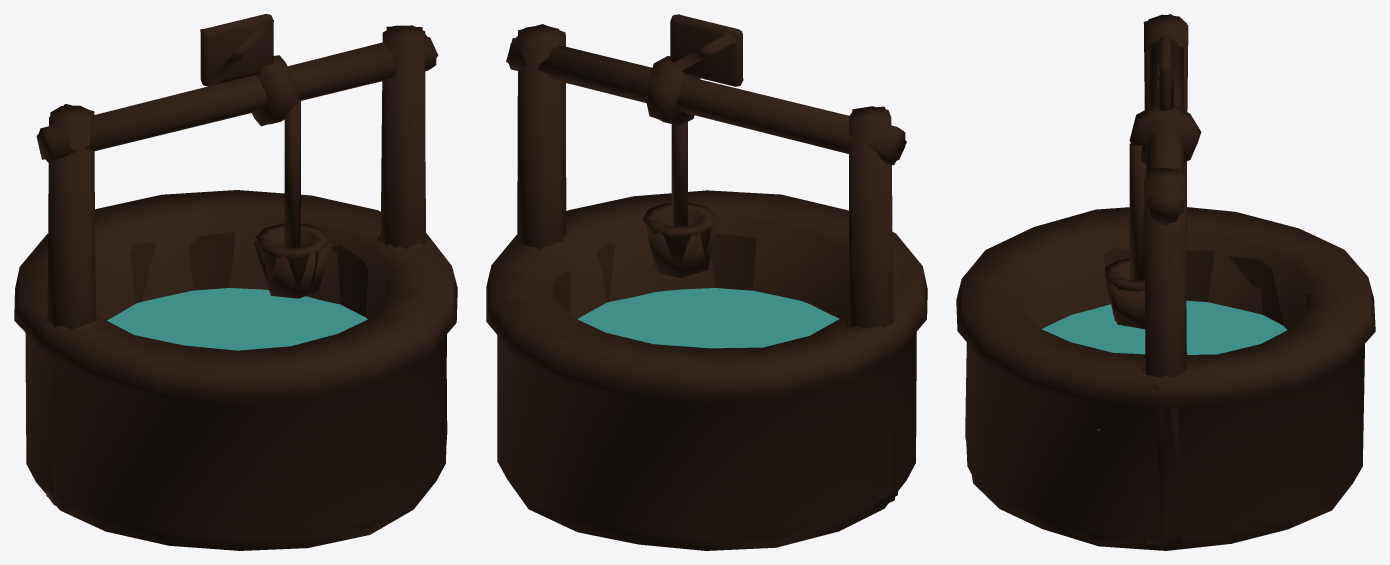
File: well.glb
3 views of the same model, side by side, from view 1: azimuth 30°, elevation 25°; view 2: azimuth 150°, elevation 25°; view 3: azimuth 270°, elevation 25° (orthographic). The views are drawn at different scales.
Visible parts, largest first — view 1: well_LOD1_outline, well_outline, well; view 2: well_LOD1_outline, well_outline, well; view 3: well_LOD1_outline, well_outline, well.
Boxes of the visible parts, box(x1,y1,x2,y2) form: well_LOD1_outline: box(14, 20, 457, 550); well_outline: box(30, 14, 447, 531); well: box(107, 288, 367, 350); well_LOD1_outline: box(486, 14, 927, 550); well_outline: box(502, 14, 905, 540); well: box(577, 288, 839, 348); well_LOD1_outline: box(956, 14, 1375, 550); well_outline: box(966, 14, 1358, 545); well: box(1041, 300, 1287, 430).
Size of what is drawn, in the model's own units: 2.36 by 2.58 by 2.33.
